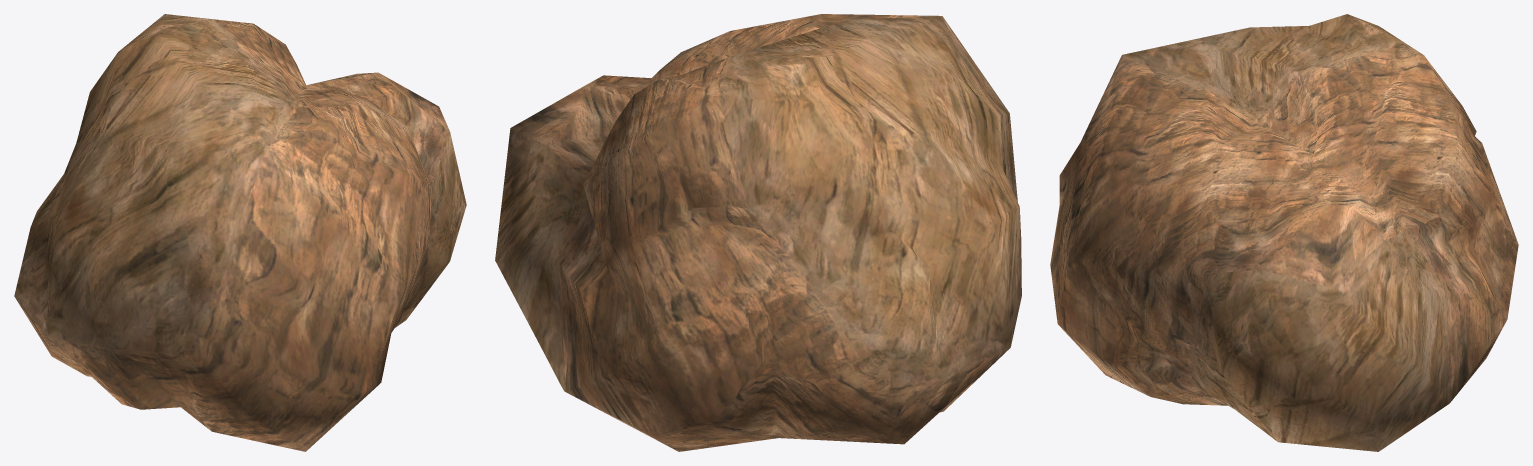
Rendered from rock_tatt_bensmesa_boulder_l0.fbx.
The picture shows the model from 3 angles, left to right: view 1: azimuth 30°, elevation 25°; view 2: azimuth 150°, elevation 25°; view 3: azimuth 270°, elevation 25°; orthographic projection. The views are drawn at different scales.
Parts seen in each view (by area): view 1: mesh_node; view 2: mesh_node; view 3: mesh_node.
Boxes of the visible parts, x1,y1,x2,y2 form: mesh_node: (14,14,466,451); mesh_node: (495,14,1021,451); mesh_node: (1050,14,1518,451).
Size of the model in its own units: 3.28 by 2.63 by 3.12.
